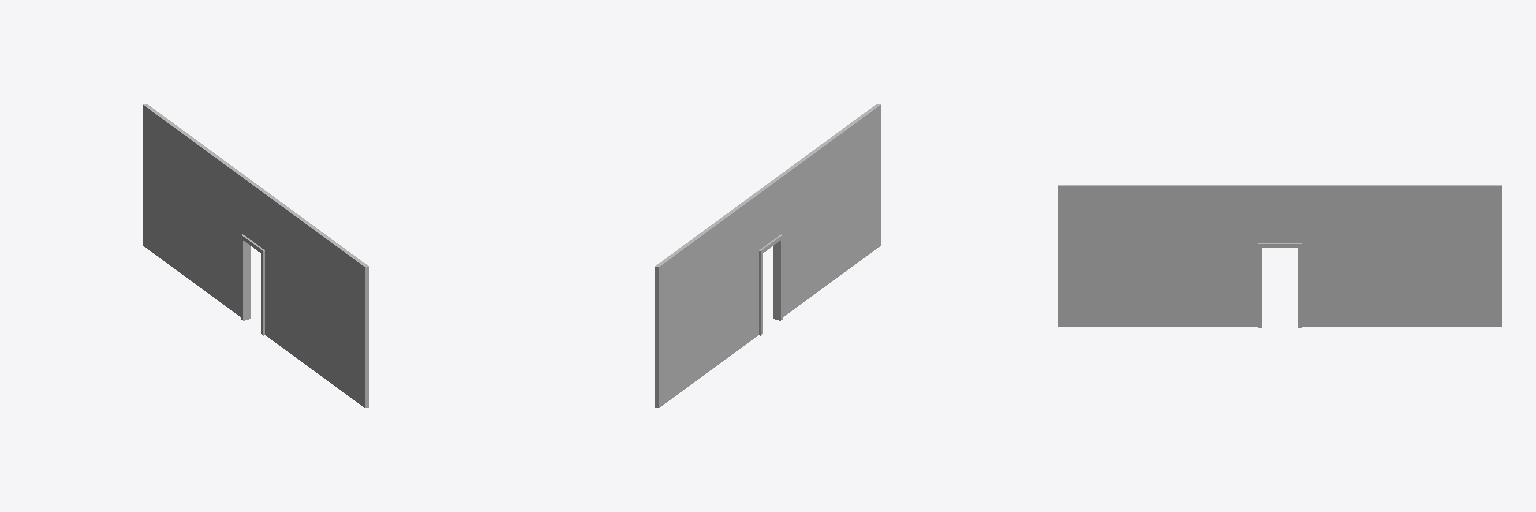
Rendered from WallWithDoor.obj.
3 renders of one model, left to right at view 1: azimuth 30°, elevation 25°; view 2: azimuth 150°, elevation 25°; view 3: azimuth 270°, elevation 25°, orthographic.
Parts seen in each view (by area): view 1: Cube; view 2: Cube; view 3: Cube.
Boxes of the visible parts, box(x1,y1,x2,y2) form: Cube: box(143, 104, 368, 407); Cube: box(655, 104, 880, 407); Cube: box(1058, 185, 1501, 327).
Bounding box in the file's own units: 0.2 × 3.5 × 10.